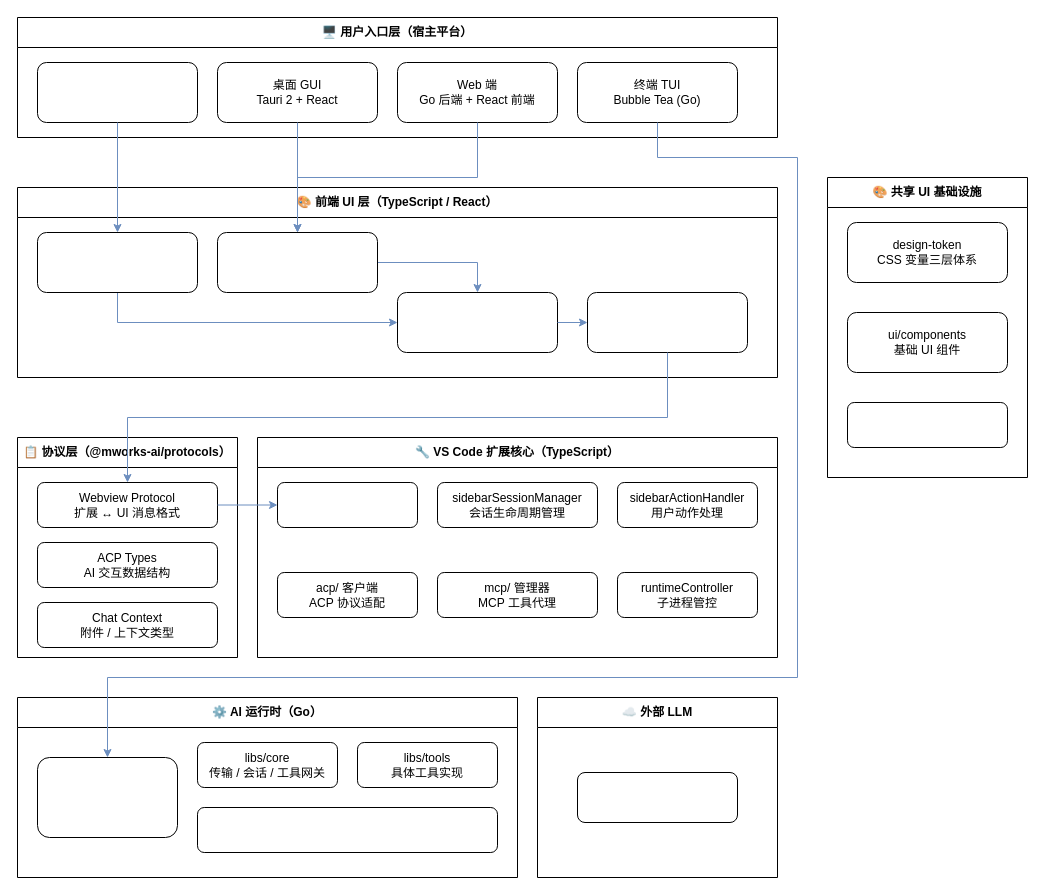
Some shapes in this 1045 by 895 pixel diagram are drawn without their labels. Here are the shapes that lost their labels. From the top down, the centre of each, then its label:
the point at 117,92: VS Code 扩展 Syslab / Sysplorer Copilot
the point at 117,262: agent-sidebar-webview 侧边栏聊天面板
the point at 297,262: agent-webview 宽屏独立布局
the point at 477,322: fronted 前端公共UI组件库
the point at 667,322: platform-bridge VS Code / Tauri 平台桥接
the point at 927,425: i18n 国际化资源
the point at 347,505: sidebarBootstrap 服务装配层
the point at 107,797: apps/modelx Agent 主进程 --stdio 模式
the point at 657,797: OpenAI 兼容 API
the point at 347,829: memory / SQLite 会话持久化
